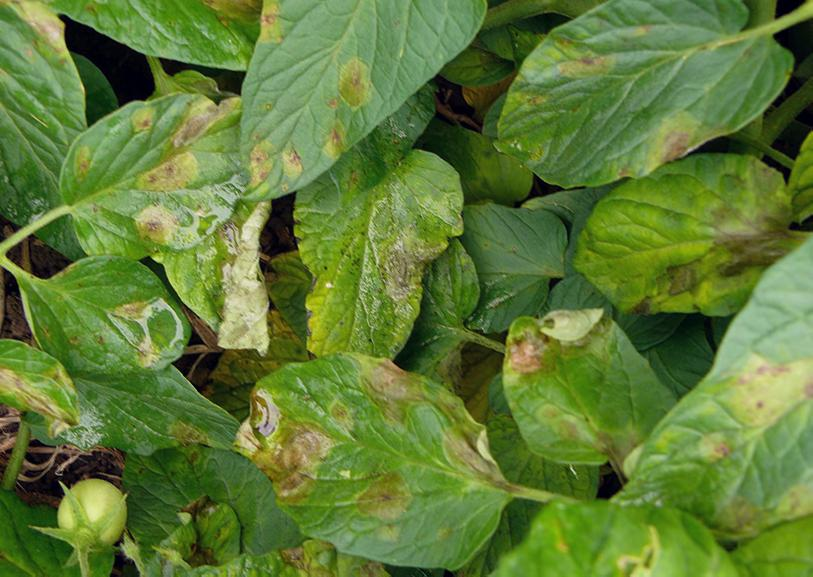Tomato leaf late blight: (214, 0, 552, 249), (239, 338, 511, 577), (489, 0, 795, 206), (259, 118, 451, 380), (563, 143, 813, 332), (40, 80, 274, 274), (491, 270, 678, 506), (2, 244, 197, 384), (0, 331, 96, 453)
